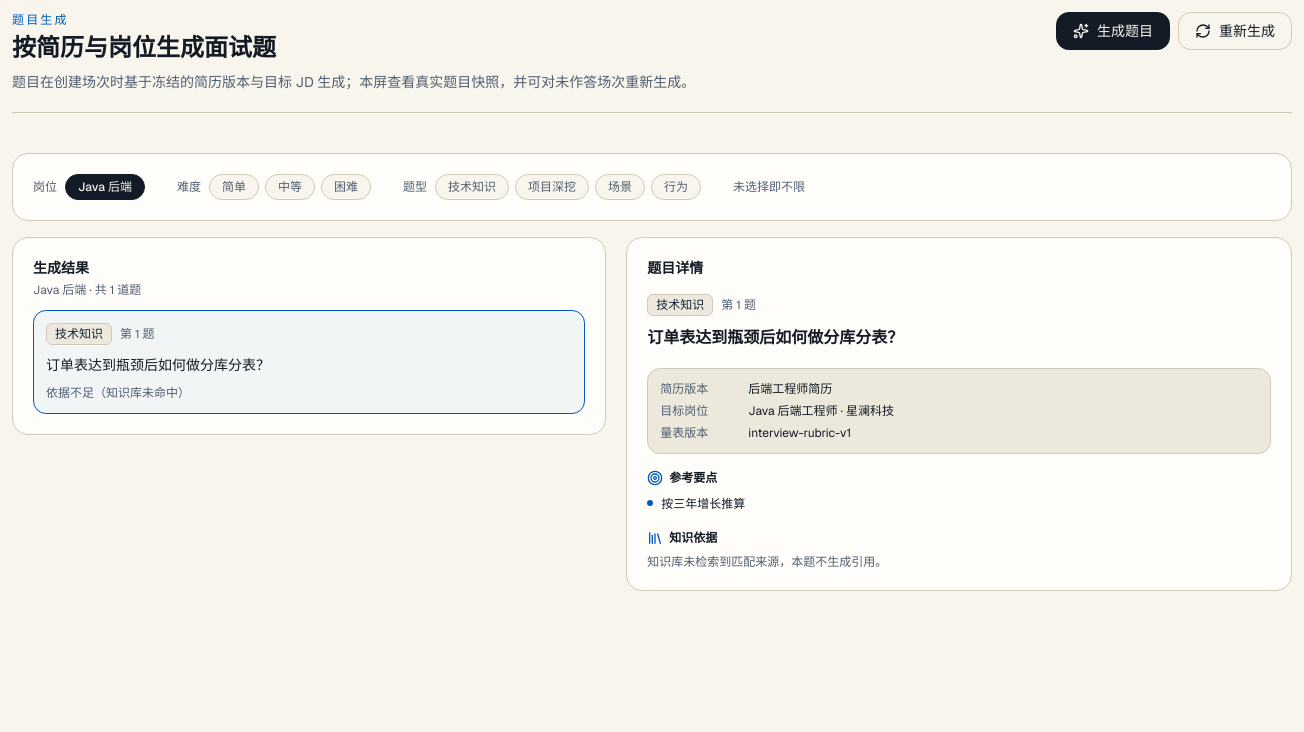
Test: QuestionsScreen › 重新生成遇 409 时展示 i18n 文案而非服务端原文
What coordinates should you click on to do the following:
click the button "重新生成"
I would click on:
 (1235, 31)
Its box is left=1178, top=12, right=1292, bottom=50.
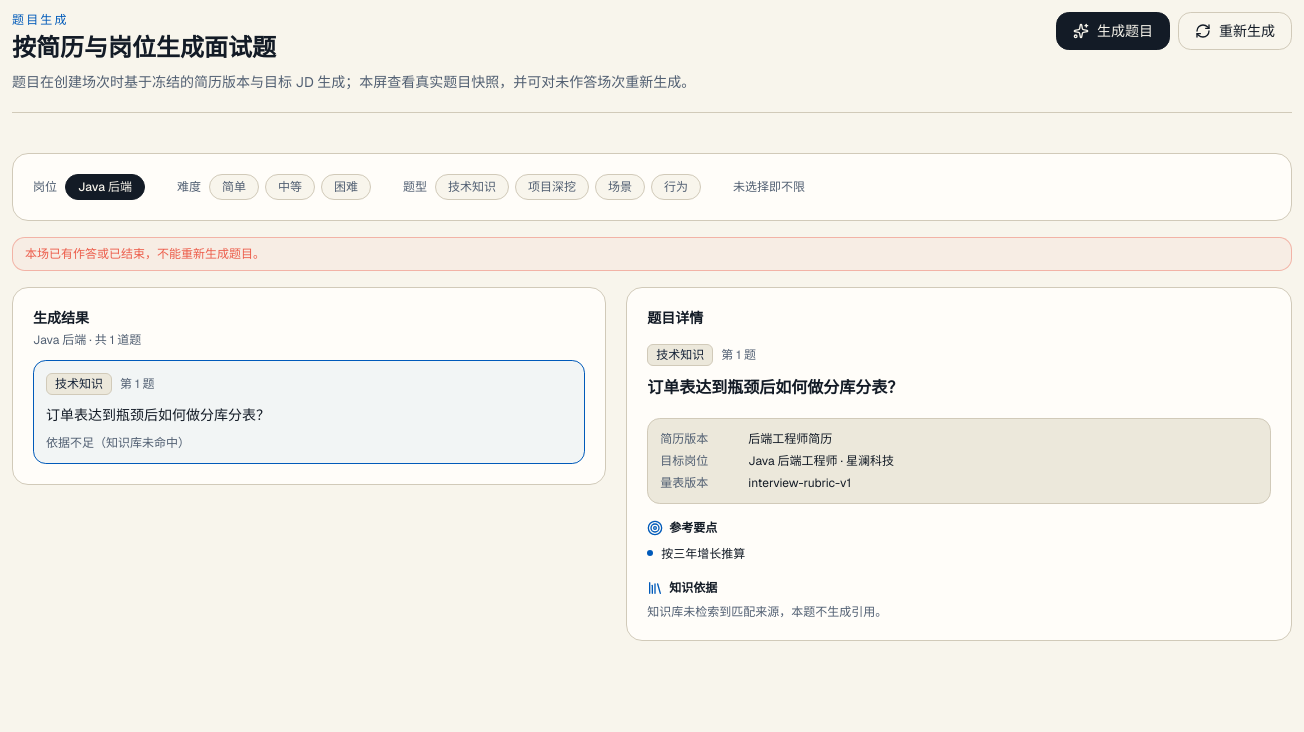
expect the text "本场已有作答或已结束，不能重新生成题目。" is shown: met, box left=12, top=237, right=1292, bottom=271
